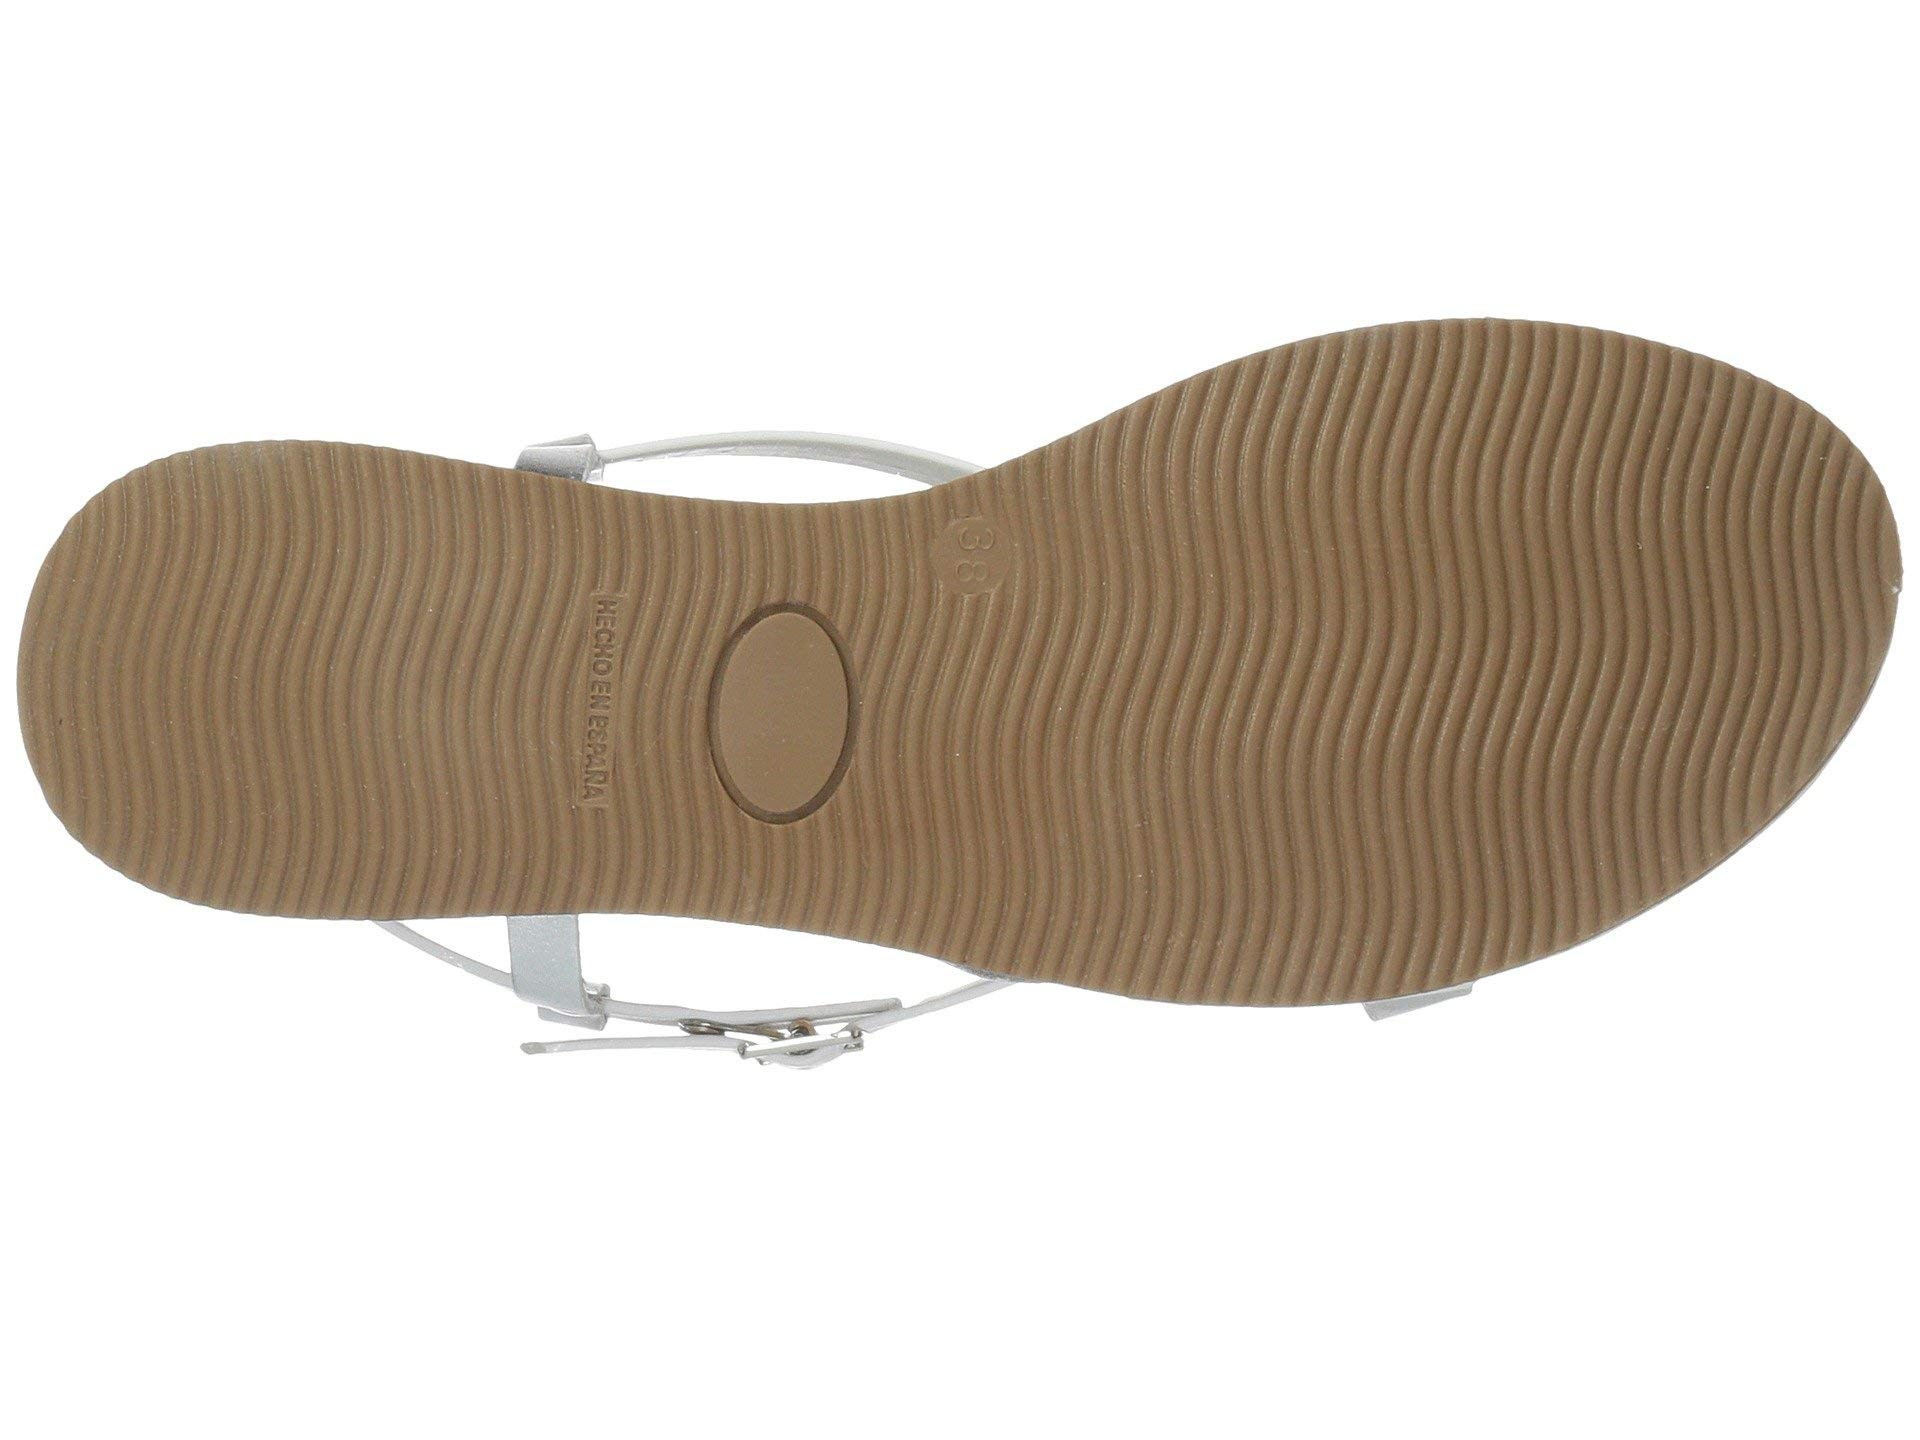chevron: (472, 542, 937, 898)
circle: (472, 542, 937, 898)
text: (472, 542, 937, 898)
